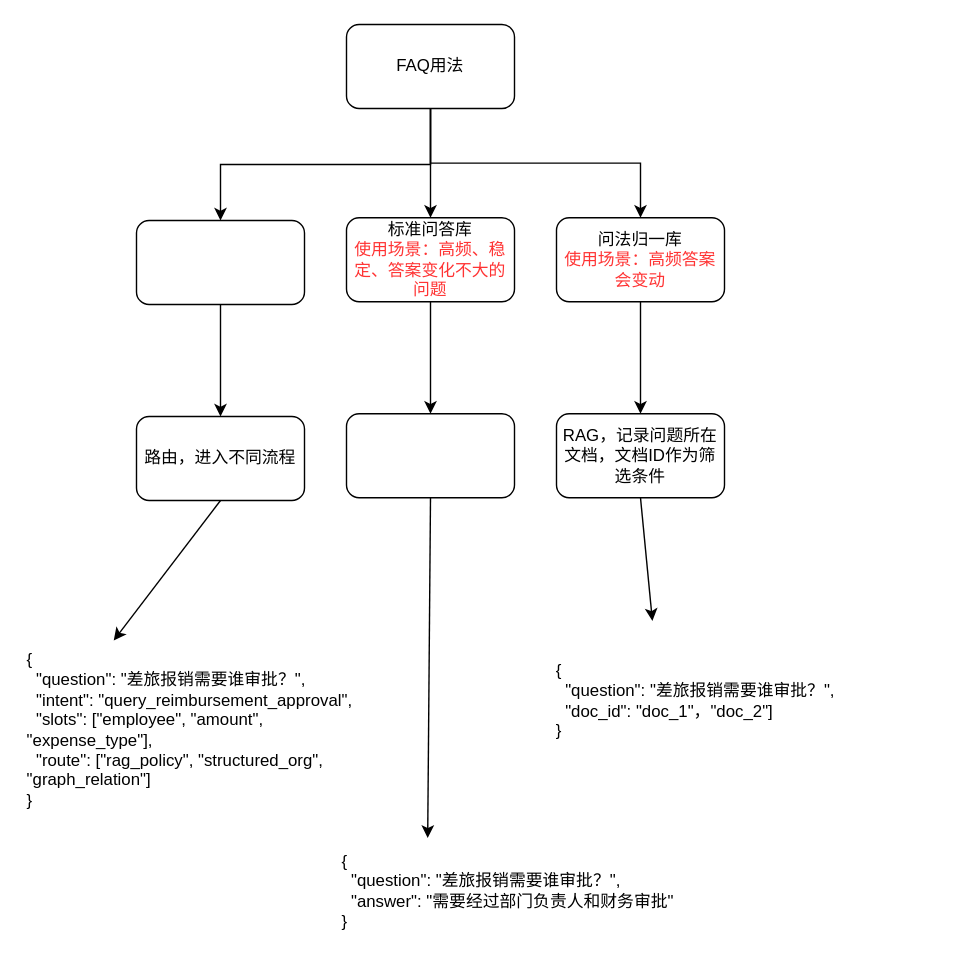
Some shapes in this 972 by 967 pixel diagram are drawn without their labels. Each missing label, with the box of its shape:
意图路由库 使用场景：适合流程类、业务规则类问题: (135, 219, 304, 304)
查库直出: (345, 412, 514, 498)
